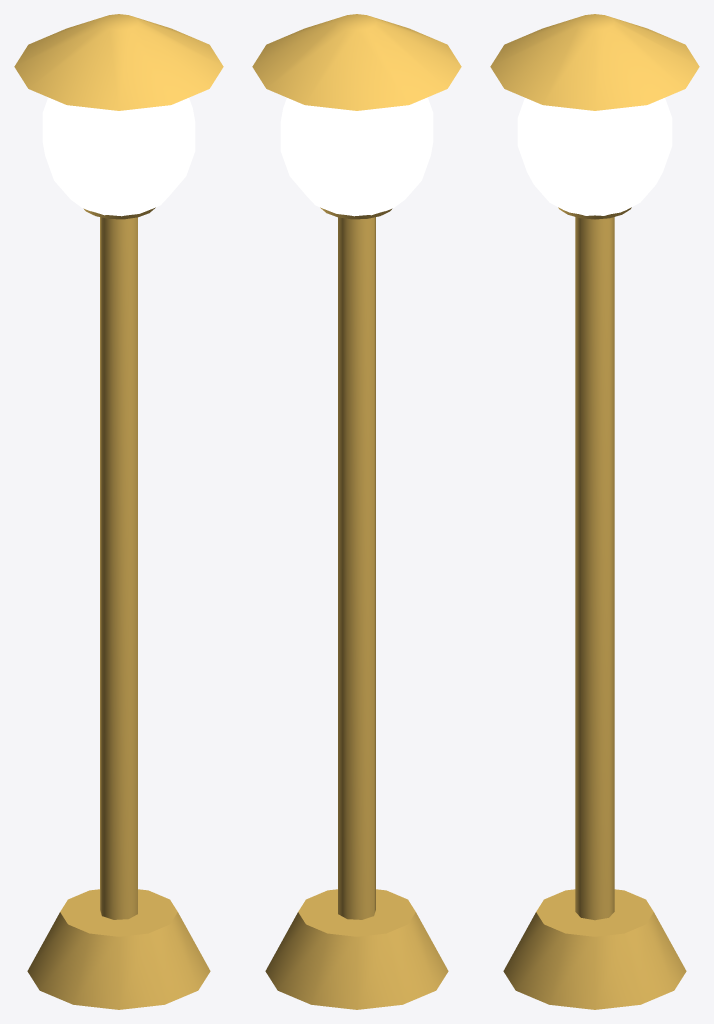
File: built-lamp-high.glb
3 renders of one model, left to right at view 1: azimuth 30°, elevation 25°; view 2: azimuth 150°, elevation 25°; view 3: azimuth 270°, elevation 25°, orthographic.
Visible parts, largest first — view 1: root_mesh; view 2: root_mesh; view 3: root_mesh.
Boxes of the visible parts, x1,y1,x2,y2 form: root_mesh: (14, 14, 223, 1009); root_mesh: (252, 14, 461, 1009); root_mesh: (490, 14, 699, 1009).
Size of the model in its own units: 0.64 by 3.2 by 0.64.
